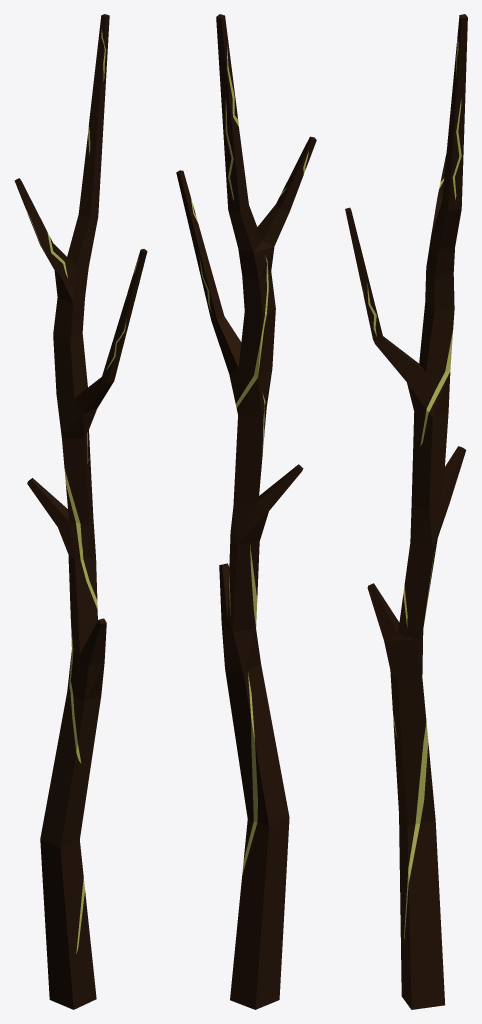
File: LightningWand.obj
3 views of the same model, side by side, from view 1: azimuth 30°, elevation 25°; view 2: azimuth 210°, elevation 25°; view 3: azimuth 270°, elevation 25° (orthographic). The views are drawn at different scales.
Parts seen in each view (by area): view 1: Cube; view 2: Cube; view 3: Cube.
Part boxes in pixels (bbox=[...]): Cube: bbox=[14, 14, 147, 1009]; Cube: bbox=[176, 14, 316, 1009]; Cube: bbox=[345, 14, 467, 1009].
Size of the model in its own units: 0.0888 by 0.8379 by 0.0922.
